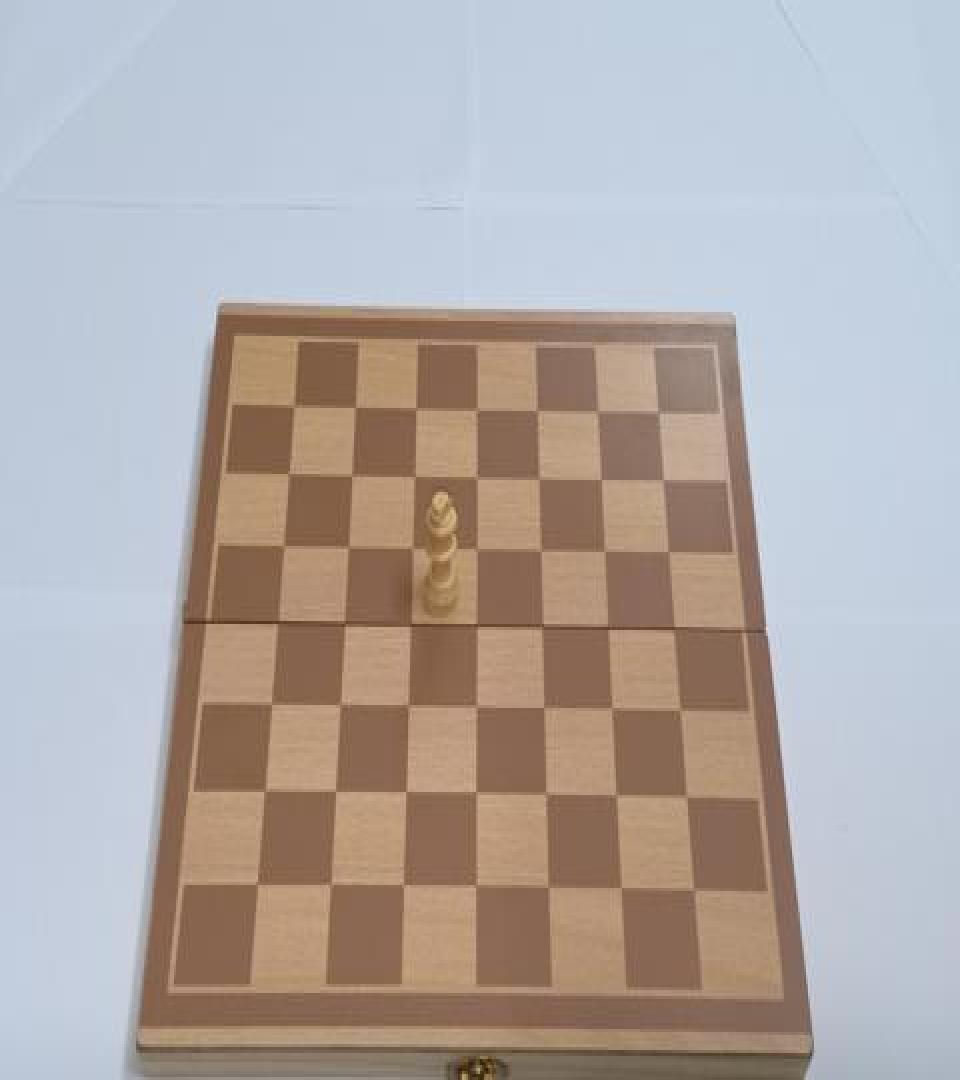xcorner: (646, 397, 666, 428), (652, 466, 672, 497), (282, 392, 302, 422), (277, 459, 297, 489), (272, 532, 292, 562), (266, 609, 286, 639), (260, 692, 280, 722), (253, 780, 273, 810), (246, 873, 266, 903), (343, 392, 363, 422), (340, 460, 360, 490), (336, 534, 356, 564), (328, 693, 348, 723), (324, 780, 344, 810), (319, 874, 339, 904), (404, 393, 424, 423), (402, 462, 422, 492), (400, 534, 420, 564), (399, 612, 419, 642), (397, 694, 417, 724), (395, 782, 415, 812), (393, 876, 413, 906), (464, 394, 484, 424), (465, 462, 485, 492), (465, 612, 485, 642), (465, 694, 485, 724), (466, 783, 486, 813), (525, 396, 545, 426), (527, 464, 547, 494), (529, 537, 549, 567), (531, 614, 551, 644), (534, 696, 554, 726), (585, 396, 605, 426), (589, 465, 609, 495), (593, 537, 613, 567), (598, 615, 618, 645), (613, 879, 633, 909), (658, 538, 678, 568), (678, 786, 698, 816), (332, 611, 352, 640), (465, 536, 485, 565), (466, 878, 486, 907), (537, 785, 557, 814), (539, 878, 559, 907), (602, 698, 622, 727), (607, 785, 627, 814), (664, 617, 684, 646), (671, 698, 691, 727), (686, 881, 706, 910)
